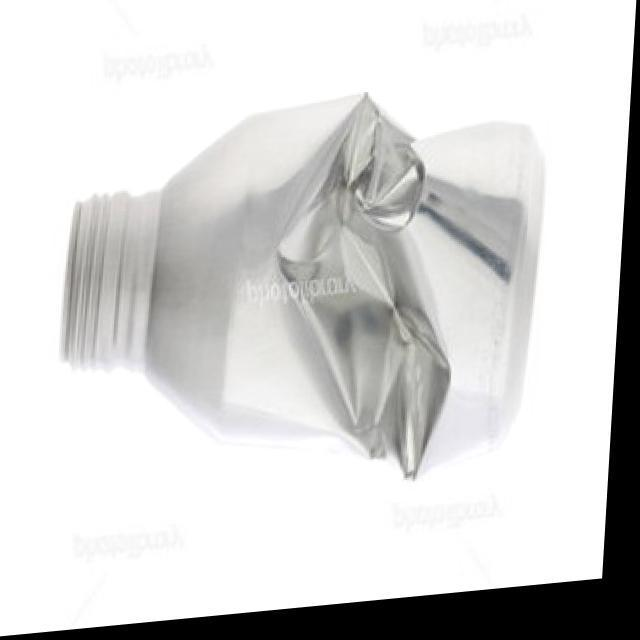trash: (58, 79, 548, 515)
